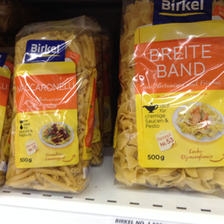pasta: (113, 1, 224, 193), (4, 23, 98, 192)
